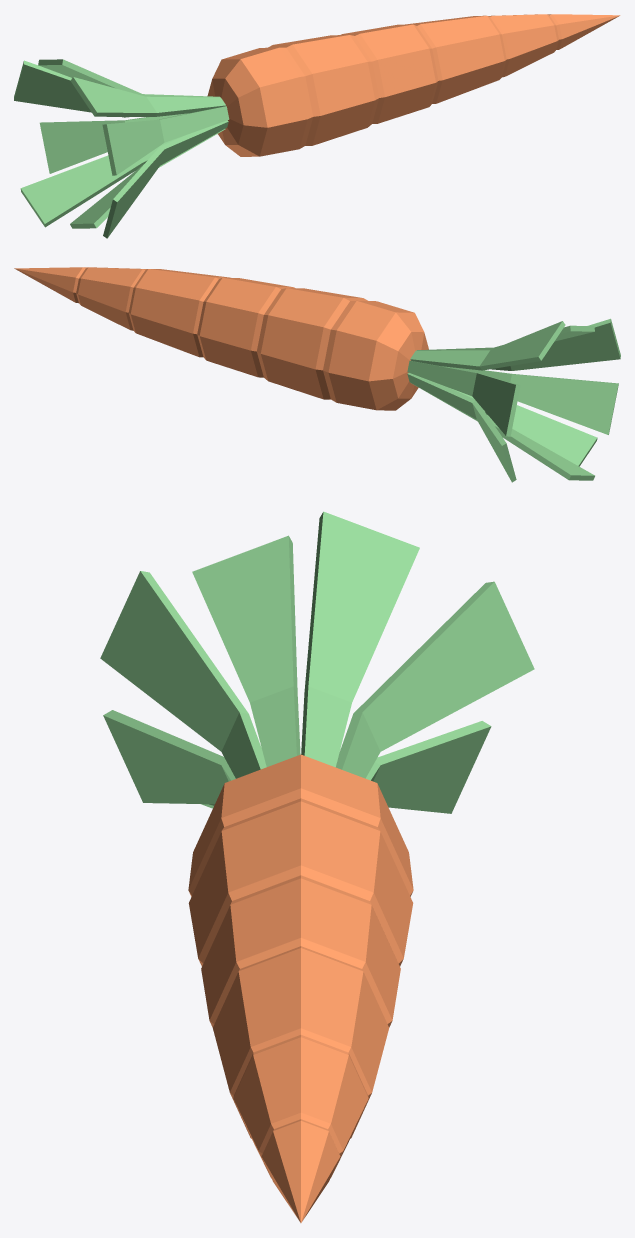
File: carrot.fbx
The picture shows the model from 3 angles, top to bottom: view 1: azimuth 30°, elevation 25°; view 2: azimuth 150°, elevation 25°; view 3: azimuth 270°, elevation 25°; orthographic projection. The views are drawn at different scales.
Parts seen in each view (by area): view 1: Carrot_01; view 2: Carrot_01; view 3: Carrot_01.
Boxes of the visible parts, x1,y1,x2,y2 form: Carrot_01: [14, 14, 620, 238]; Carrot_01: [14, 267, 620, 482]; Carrot_01: [100, 511, 534, 1222].
Size of the model in its own units: 2581 by 693 by 841.
